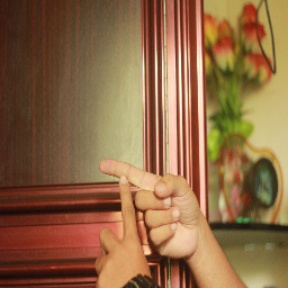T: (91, 153, 177, 268)
